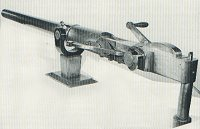rifle: (2, 7, 200, 120)
